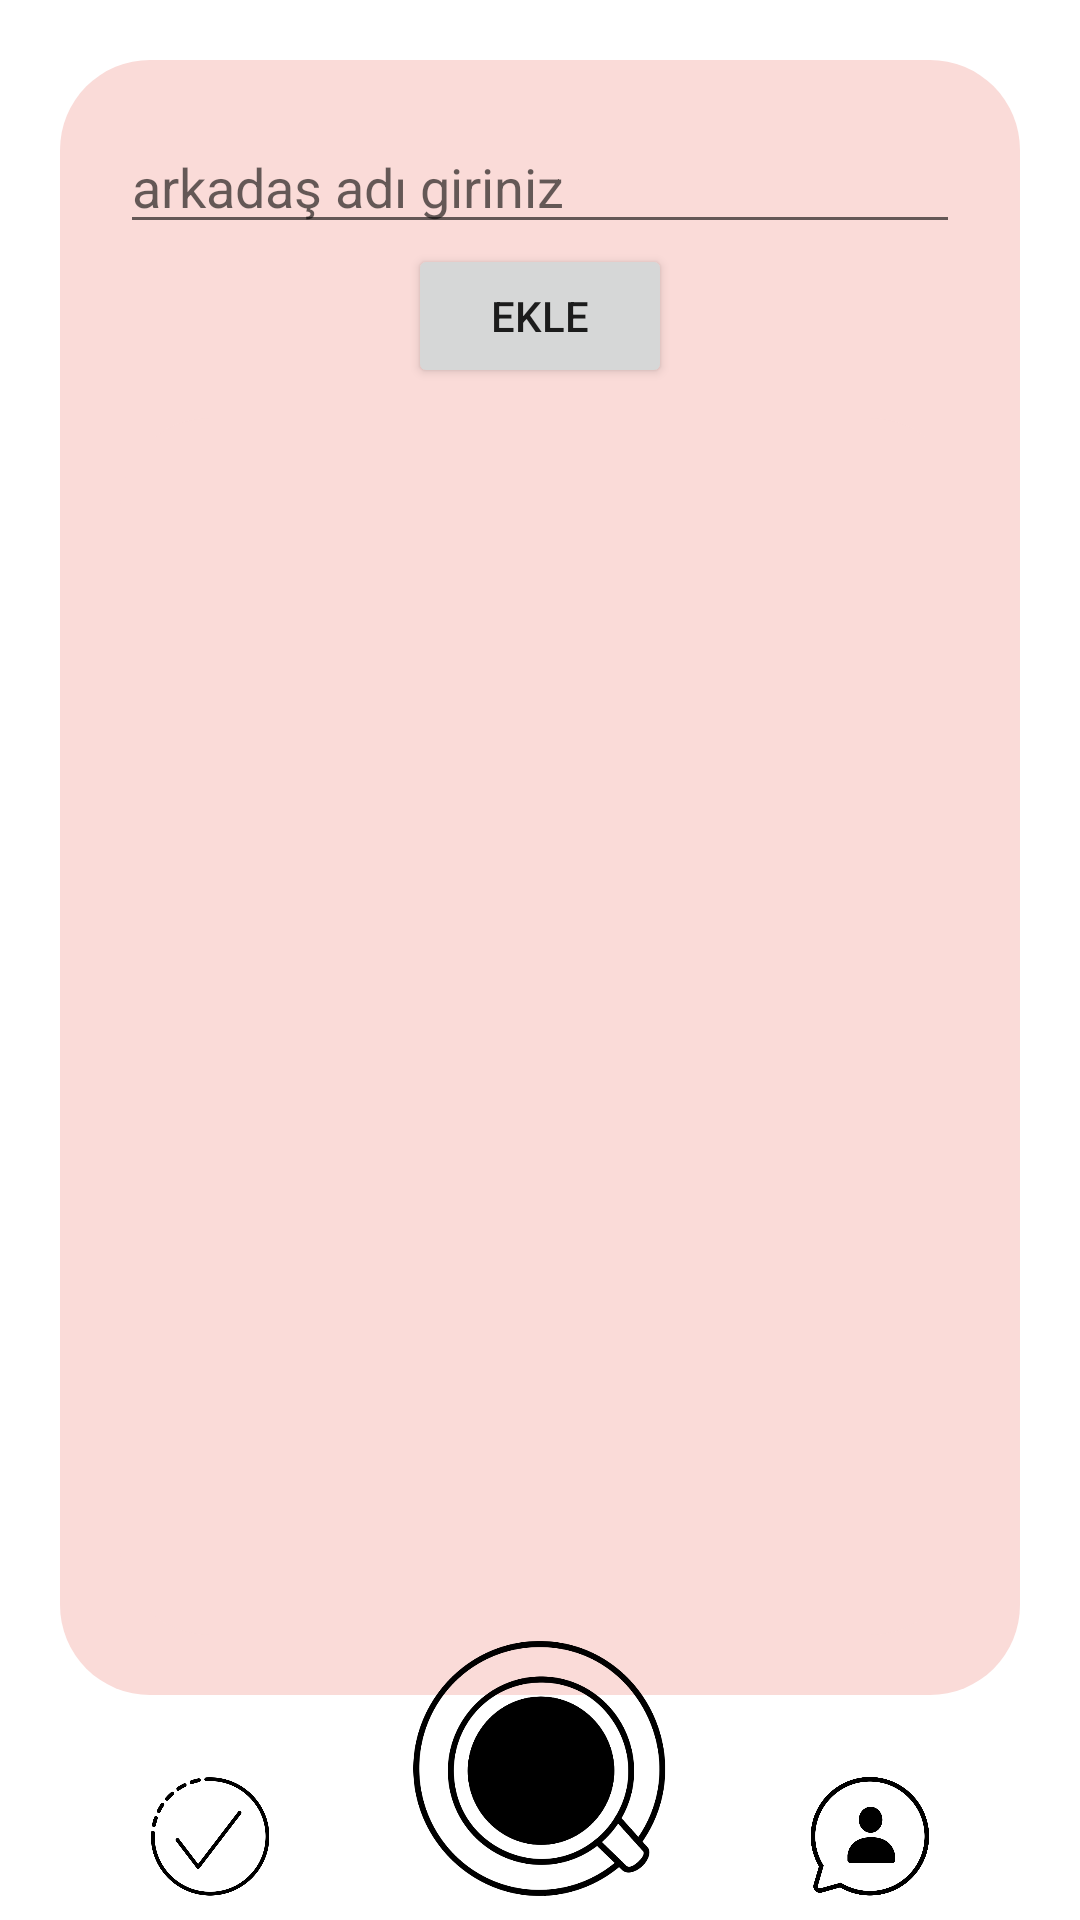

Icon bounding boxes for this 1080w x 1920h phone screenshot, format (x1, y1, x2, y2):
arkadaslar: (811, 1777, 929, 1896)
yapilan: (151, 1777, 269, 1896)
